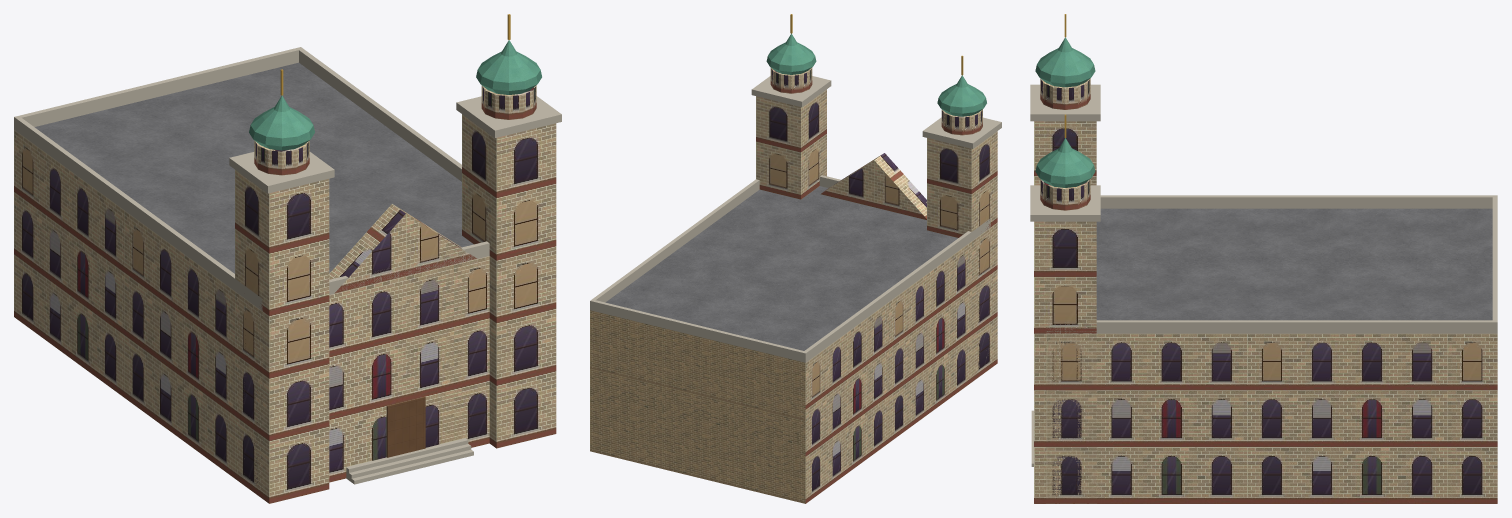
The model's file is 082_synagogue.glb.
The picture shows the model from 3 angles, left to right: view 1: azimuth 30°, elevation 25°; view 2: azimuth 150°, elevation 25°; view 3: azimuth 270°, elevation 25°; orthographic projection. The views are drawn at different scales.
Visible parts, largest first — view 1: 082_synagogue; view 2: 082_synagogue; view 3: 082_synagogue.
Part boxes in pixels (x1,y1,x2,y2): 082_synagogue: (14,14,561,503); 082_synagogue: (590,14,1001,503); 082_synagogue: (1030,14,1497,503).
Size of the model in its own units: 24.6 by 33.1 by 37.3.
7 materials, 5 textured.
